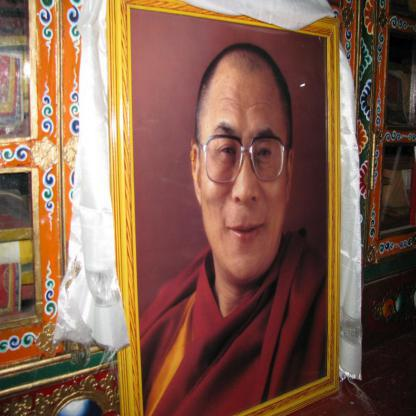Picture-frame: (106, 1, 342, 416)
